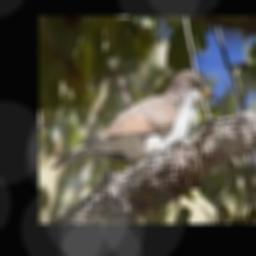Cuckoo: (52, 69, 218, 171)
